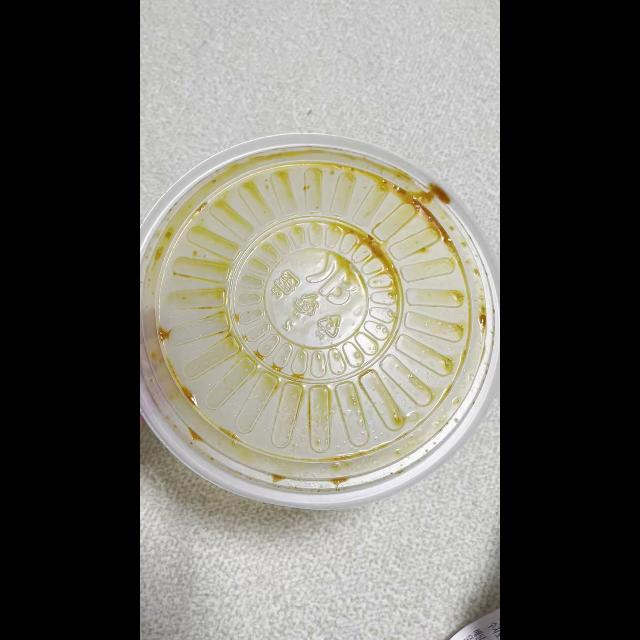dirty: (140, 137, 492, 505)
